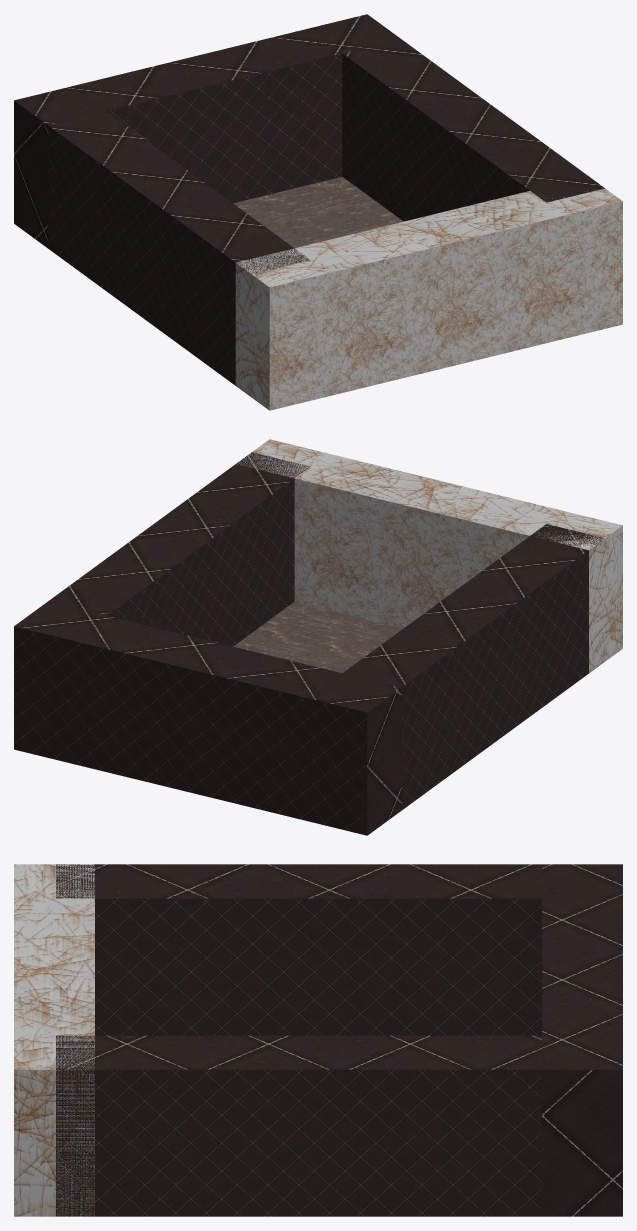
File: MultiMaterialModel.fbx
The picture shows the model from 3 angles, top to bottom: view 1: azimuth 30°, elevation 25°; view 2: azimuth 150°, elevation 25°; view 3: azimuth 270°, elevation 25°; orthographic projection. The views are drawn at different scales.
Parts seen in each view (by area): view 1: Cube.004, Cube.003, Cube.002, Cube.001, Cube; view 2: Cube.003, Cube.004, Cube.002, Cube.001, Cube; view 3: Cube.001, Cube.002, Cube.003, Cube.004.
Boxes of the visible parts, x1,y1,x2,y2 form: Cube.004: (235,187,622,410); Cube.003: (14,14,400,248); Cube.002: (48,111,309,385); Cube.001: (342,39,604,221); Cube: (233,176,403,248); Cube.003: (14,601,401,835); Cube.004: (239,439,622,673); Cube.002: (343,524,603,810); Cube.001: (48,452,310,646); Cube: (233,601,403,673); Cube.001: (56,1035,541,1216); Cube.002: (56,864,541,1035); Cube.003: (542,864,622,1216); Cube.004: (14,864,94,1216).
Size of the model in its own units: 6 by 2.22 by 7.52.
